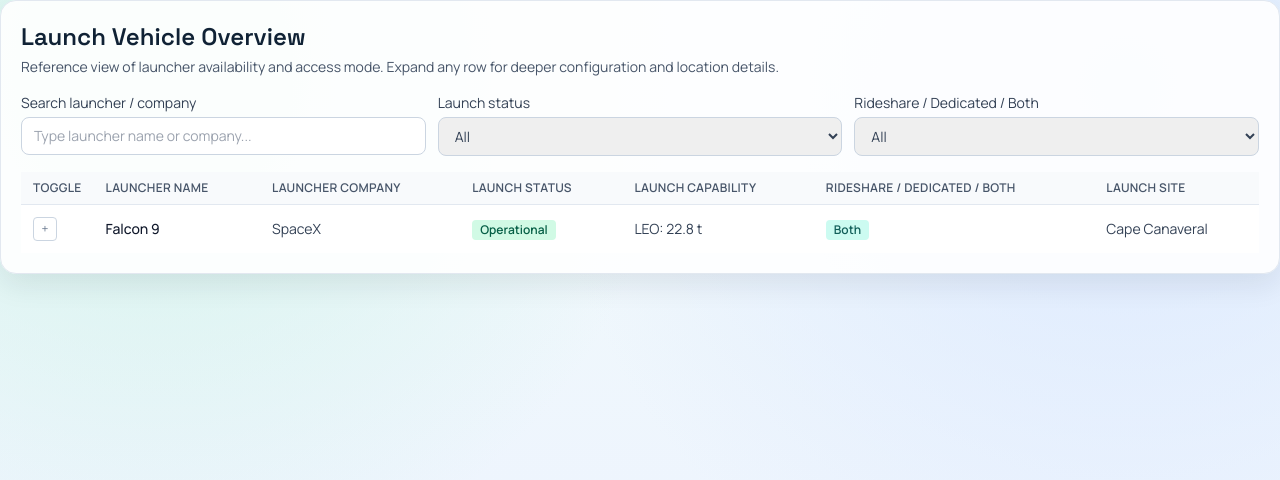
LaunchVehicleOverviewSection › renders required columns and expands rows inline
Expected: the column heading "Launcher name" is shown, left=94, top=172, right=260, bottom=204
Expected: the column heading "Launcher company" is shown, left=260, top=172, right=460, bottom=204
Click the button named "Expand Falcon 9". click: {"x": 45, "y": 229}
box: left=33, top=217, right=57, bottom=241
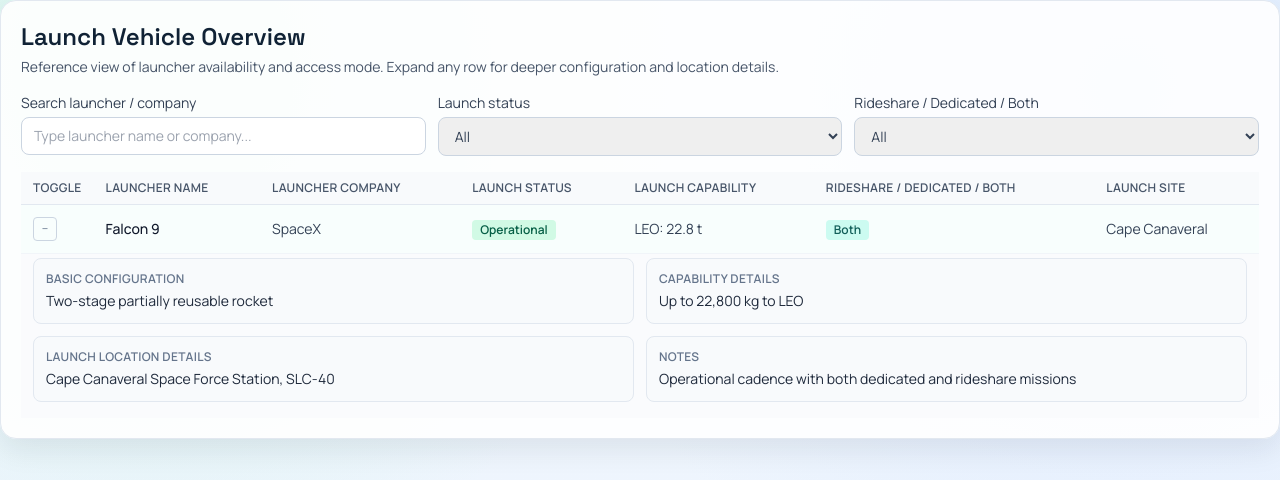
Result: the text "Basic configuration" is shown at left=46, top=270, right=184, bottom=287
Result: the text "Capability details" is shown at left=659, top=270, right=780, bottom=287
Result: the text "Launch location details" is shown at left=46, top=348, right=212, bottom=365
